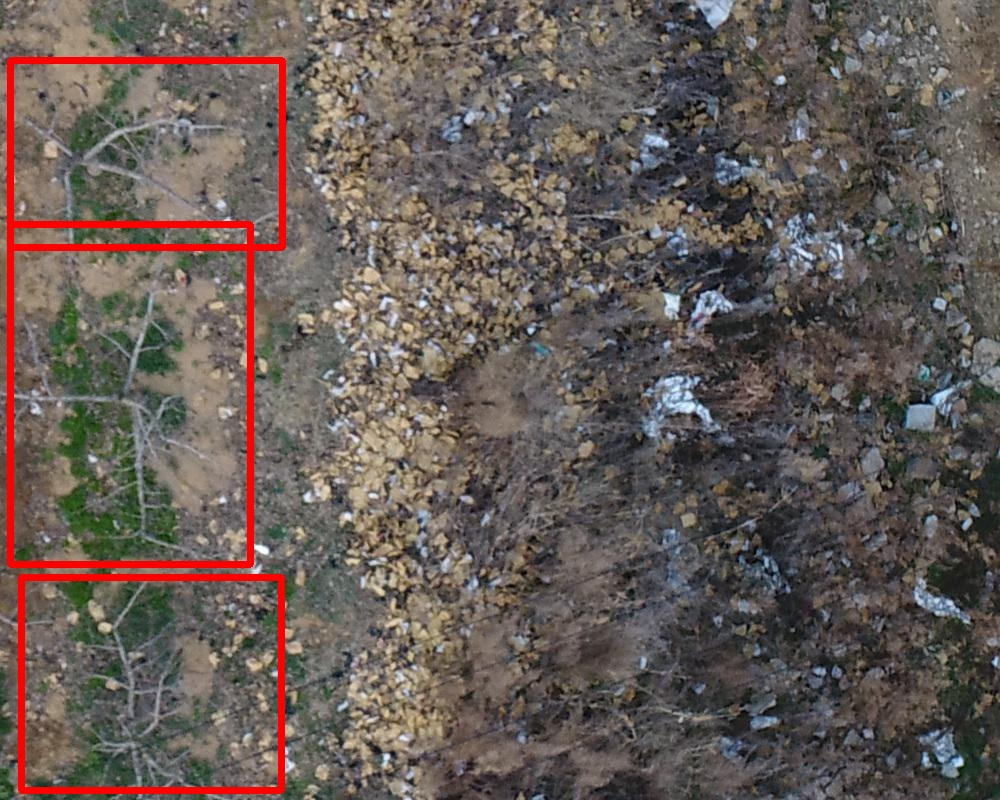apple: (10, 224, 250, 564), (21, 577, 281, 790), (10, 60, 282, 247)
